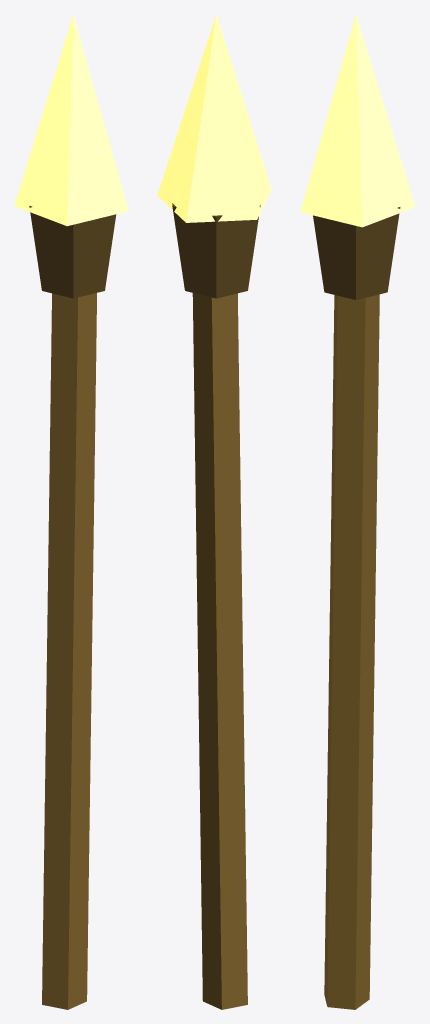
File: gold_torch.glb
3 renders of one model, left to right at view 1: azimuth 30°, elevation 25°; view 2: azimuth 150°, elevation 25°; view 3: azimuth 330°, elevation 25°, orthographic.
Visible parts, largest first — view 1: golden stake, torch flame, pitch wrap.001; view 2: golden stake, torch flame, pitch wrap.001; view 3: golden stake, torch flame, pitch wrap.001.
Boxes of the visible parts, left/top/right/bottom form: golden stake: left=42, top=293, right=96, bottom=1009; torch flame: left=14, top=14, right=128, bottom=226; pitch wrap.001: left=29, top=205, right=116, bottom=298; golden stake: left=192, top=293, right=247, bottom=1009; torch flame: left=157, top=14, right=271, bottom=222; pitch wrap.001: left=172, top=203, right=260, bottom=298; golden stake: left=324, top=294, right=379, bottom=1009; torch flame: left=300, top=14, right=415, bottom=227; pitch wrap.001: left=313, top=207, right=400, bottom=299.
Size of the model in its own units: 0.0951 by 0.8952 by 0.0905.
